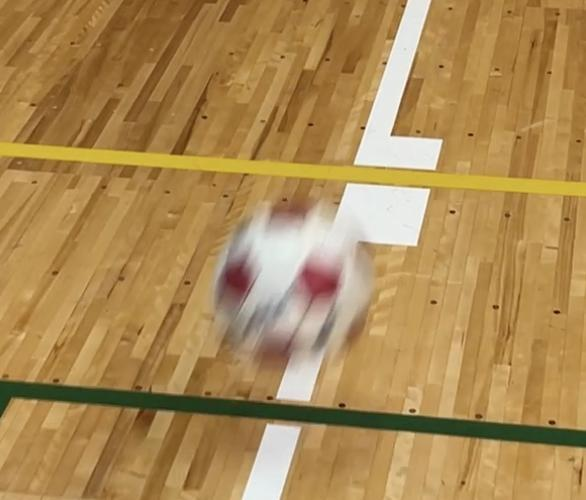Sports-Ball: (216, 202, 378, 362)
